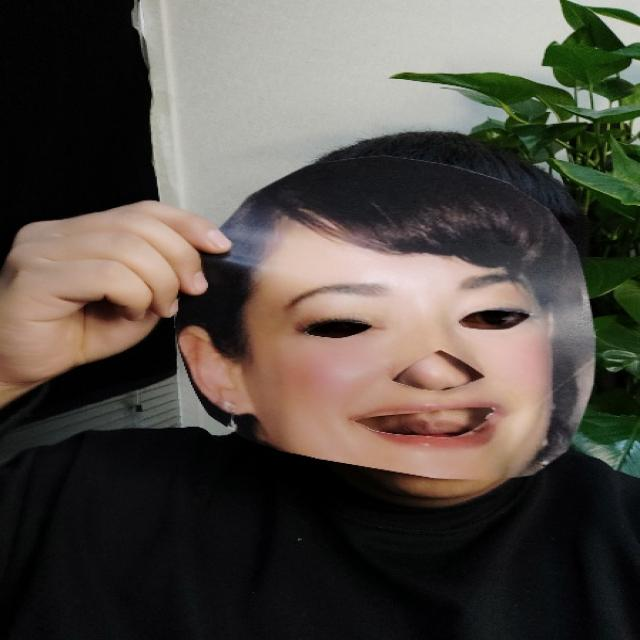mask: (171, 160, 606, 482)
